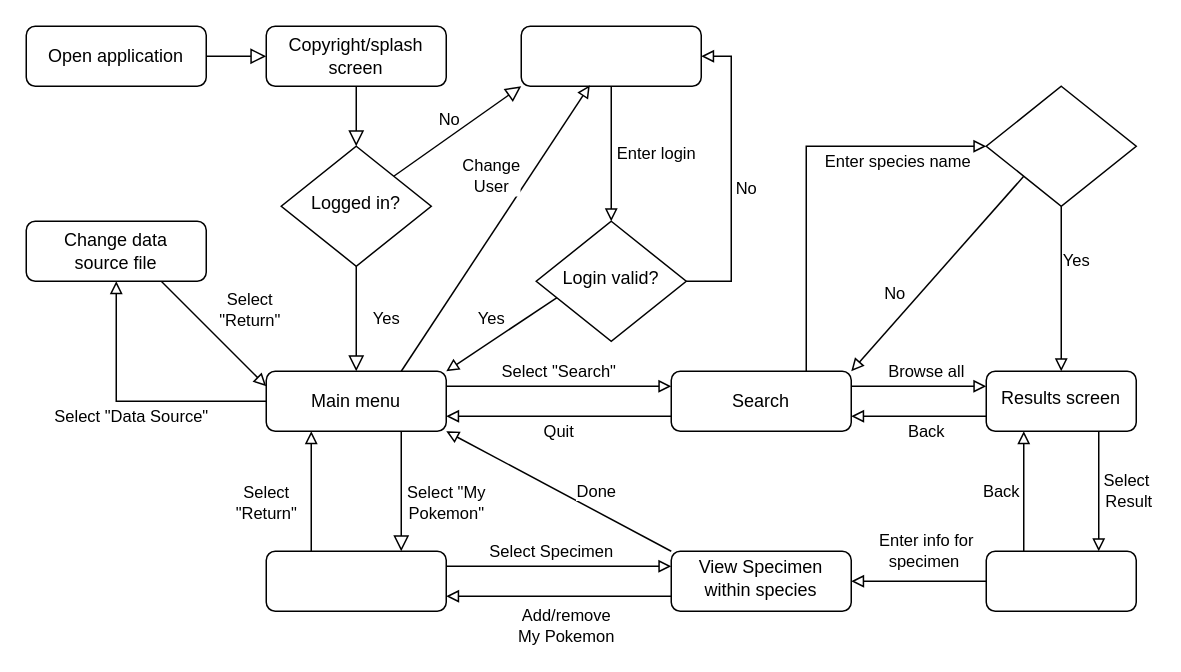
Some shapes in this 1181 by 672 pixel diagram are drawn without their labels. The box of each missing label's shape, as (x1, y1, x2, y2) in pixels:
Login screen: (520, 25, 701, 86)
My Pokemon specimens: (265, 550, 446, 611)
Results?: (985, 85, 1136, 206)
View species: (985, 550, 1136, 611)
